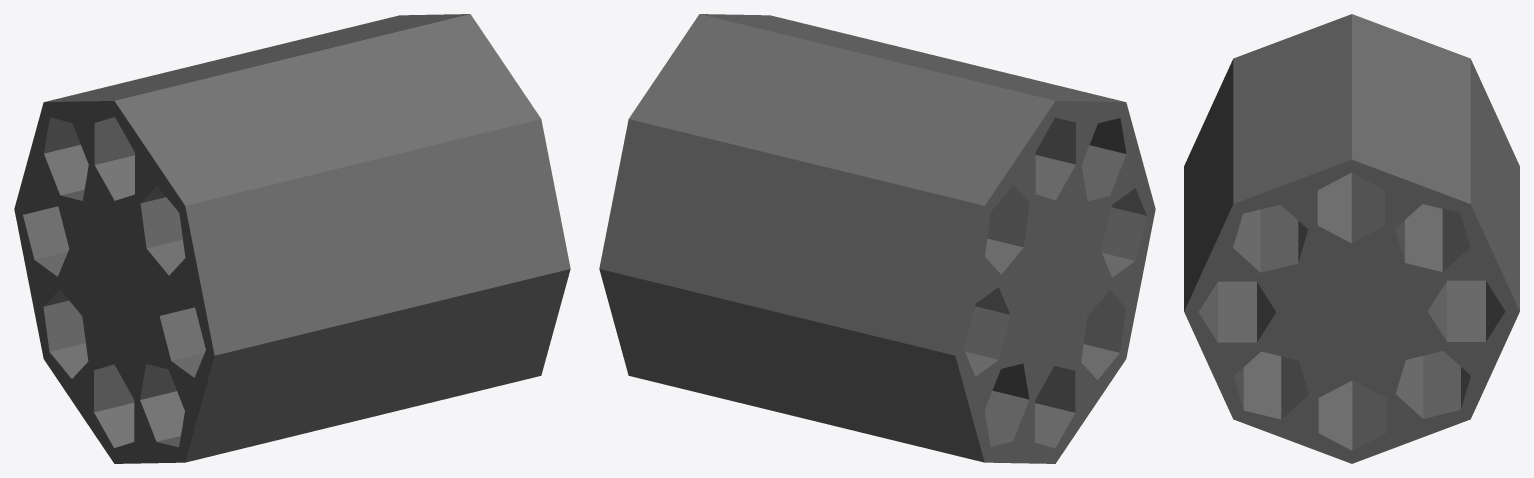
The model's file is Pistol5_03_2.fbx.
3 views of the same model, side by side, from view 1: azimuth 30°, elevation 25°; view 2: azimuth 150°, elevation 25°; view 3: azimuth 270°, elevation 25° (orthographic). The views are drawn at different scales.
Parts seen in each view (by area): view 1: Pistol5_03_2; view 2: Pistol5_03_2; view 3: Pistol5_03_2.
Part boxes in pixels (x1,y1,x2,y2): Pistol5_03_2: (14,14,570,463); Pistol5_03_2: (599,14,1155,463); Pistol5_03_2: (1184,14,1519,463).
Size of the model in its own units: 0.0511 by 0.0498 by 0.0498.
